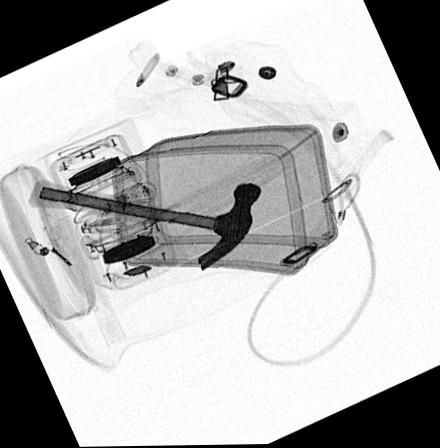Hammer: (26, 179, 260, 272)
